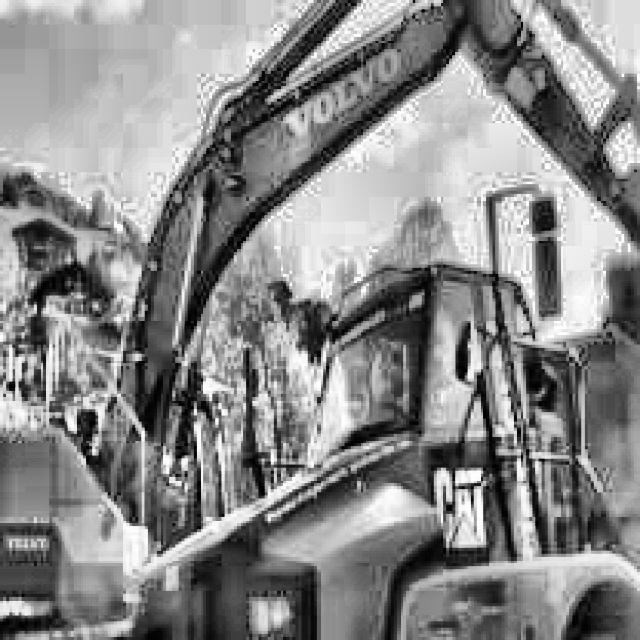dump_truck: (114, 175, 640, 640)
excavator: (0, 0, 640, 640)
